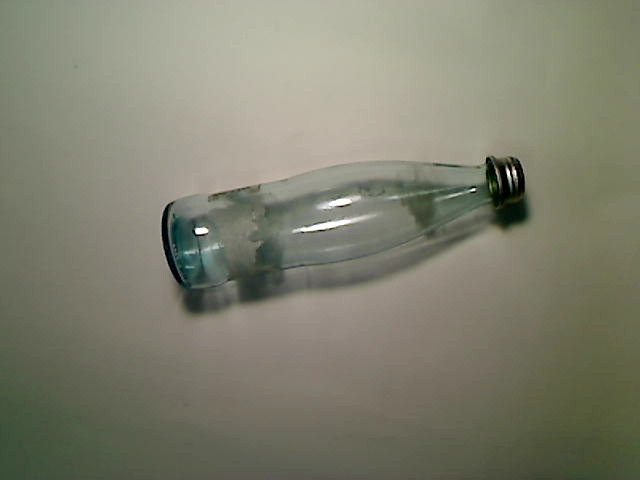bottle: (161, 153, 525, 291)
